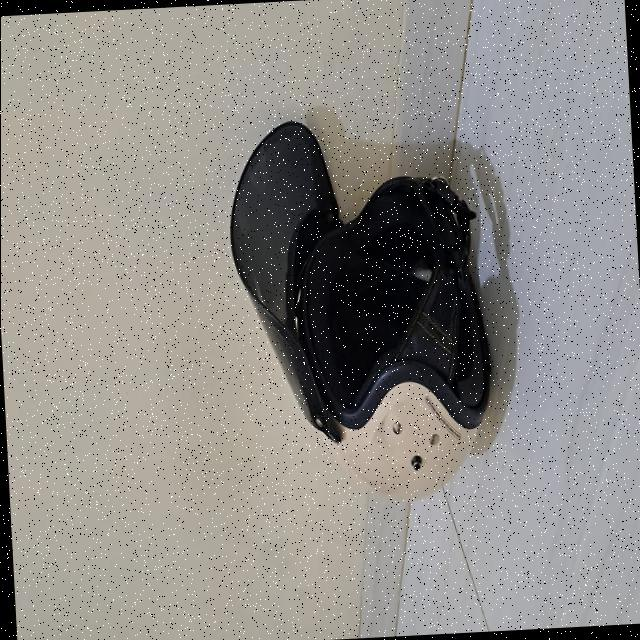Helm: (210, 101, 508, 518)
